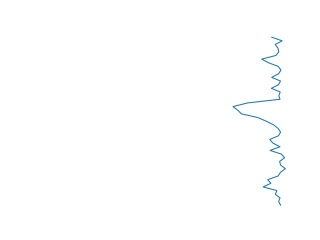interdistributaryEstuary: (229, 35, 289, 208)
